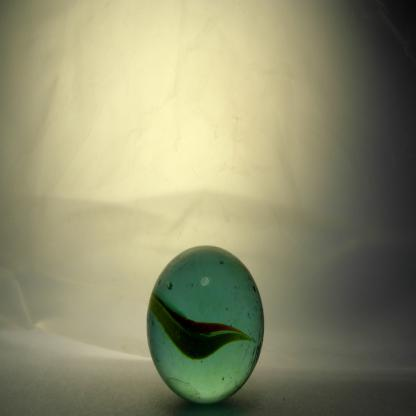Ball: (147, 245, 266, 404)
